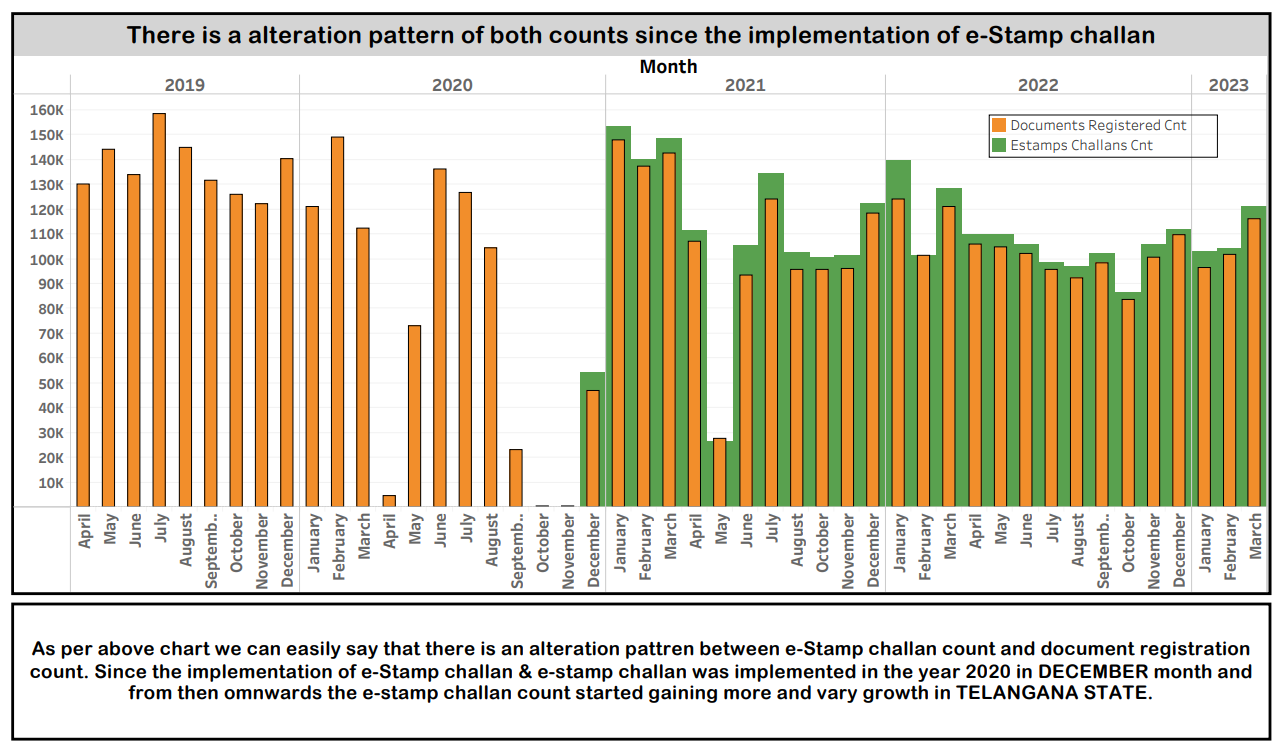

The dashboard page shown, as its layout file describes it:
{"tool":"tableau","page":{"name":"Dashboard 5","canvas":[1366,800],"ordinal":7},"visuals":[{"type":"worksheet","title":"There is a alteration pattern of both counts since the implementation of e-Stamp challan","mark":"Bar","rows":["estamps_challans_cnt","documents_registered_cnt"],"cols":["month","month"],"box":[8,8,1350,629]},{"type":"legend","title":"There is a alteration pattern of both counts since the implementation of e-Stamp challan","param":"[federated.0o7fg4m1dvu29t17ewmwn1jh5kk7].[:Measure Names]","box":[1053,121,244,46]},{"type":"text","box":[8,637,1350,155]}]}

Visuals, with their boxes in screenshot pixels (x1, y1, x2, y2), scaled from the page's 1366x800 canvas onto the 1282x748 screenshot:
"There is a alteration pattern of both counts since the implementation of e-Stamp challan" worksheet (Bar marks): l=8, t=7, r=1274, b=596
"There is a alteration pattern of both counts since the implementation of e-Stamp challan" legend: l=988, t=113, r=1217, b=156
text: l=8, t=596, r=1274, b=741
